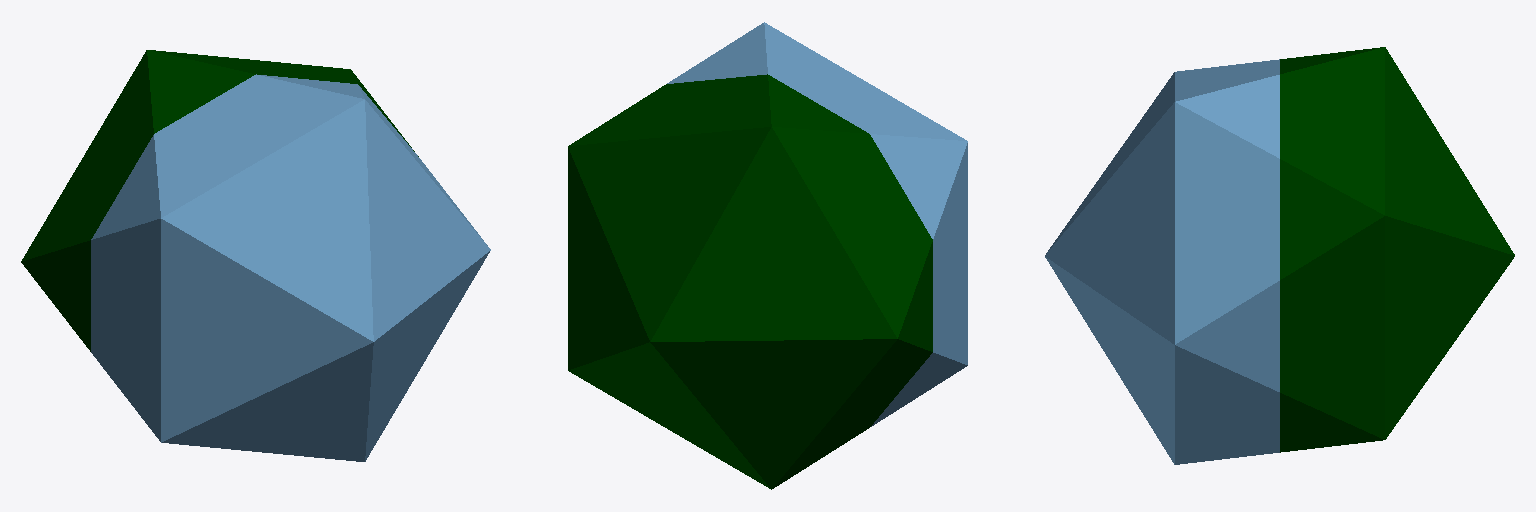
File: skyball.obj
3 renders of one model, left to right at view 1: azimuth 30°, elevation 25°; view 2: azimuth 150°, elevation 25°; view 3: azimuth 270°, elevation 25°, orthographic.
Visible parts, largest first — view 1: Sphere; view 2: Sphere; view 3: Sphere.
Boxes of the visible parts, box(x1,y1,x2,y2) form: Sphere: box(21, 50, 490, 461); Sphere: box(568, 22, 967, 489); Sphere: box(1045, 47, 1514, 464).
Bounding box in the file's own units: 1073 × 1021 × 1200.